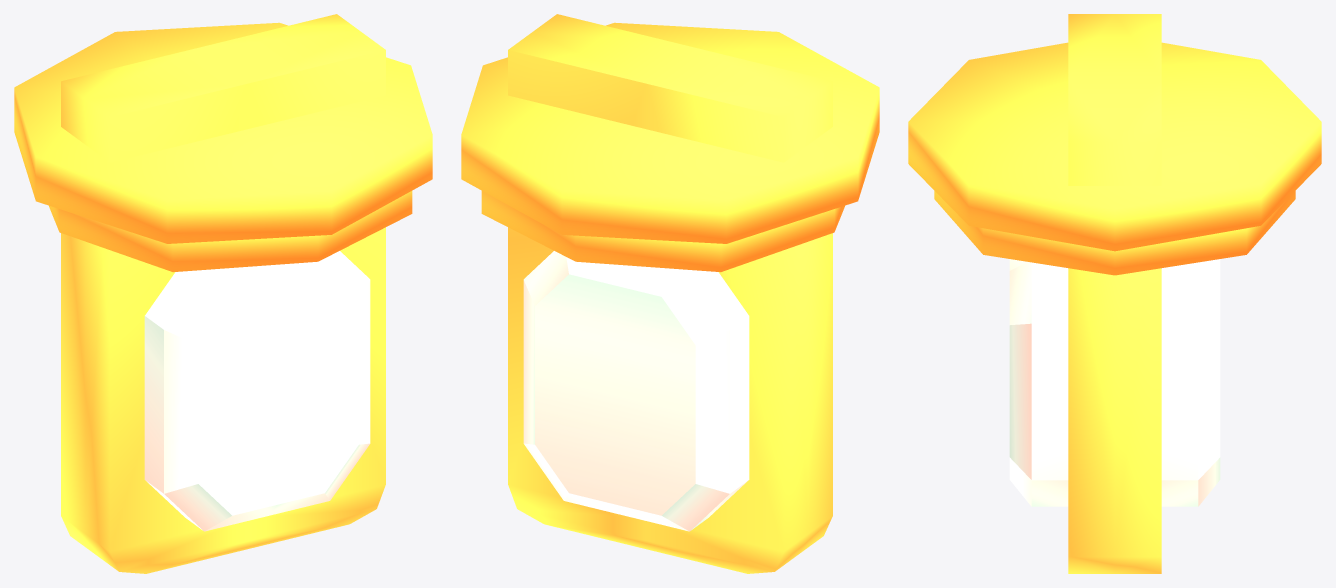
The model's file is gold_pommel_056.glb.
3 views of the same model, side by side, from view 1: azimuth 30°, elevation 25°; view 2: azimuth 150°, elevation 25°; view 3: azimuth 270°, elevation 25° (orthographic). The views are drawn at different scales.
Parts seen in each view (by area): view 1: gold_pommel_056; view 2: gold_pommel_056; view 3: gold_pommel_056.
Boxes of the visible parts, x1,y1,x2,y2 form: gold_pommel_056: (14,14,432,573); gold_pommel_056: (461,14,879,573); gold_pommel_056: (908,14,1321,573).
Bounding box in the file's own units: 1.83 × 2.17 × 1.83.
Materials: 1 (1 with a texture image).
